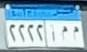2: (36, 24, 44, 43), (27, 23, 35, 42), (9, 23, 17, 42), (18, 24, 25, 42)
alif: (49, 24, 58, 42)
meem: (71, 24, 81, 41), (60, 25, 69, 42)
